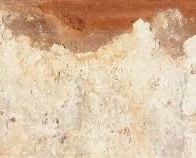Corrosion: (1, 1, 196, 61)
